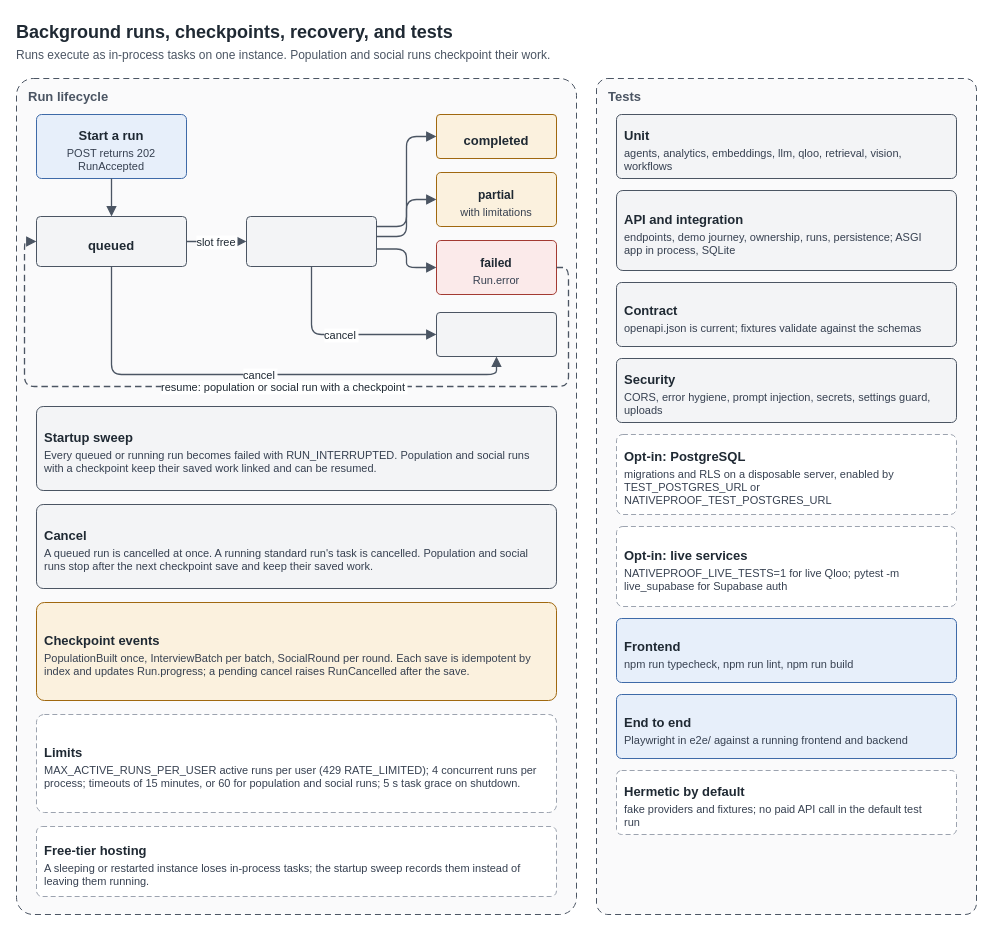
The diagram is 993 pixels wide and 931 high, and some of its shapes have lost their labels. Each missing label, with the centre of its shape:
"cancelled" belongs at point 496,334.
"running" belongs at point 311,241.
